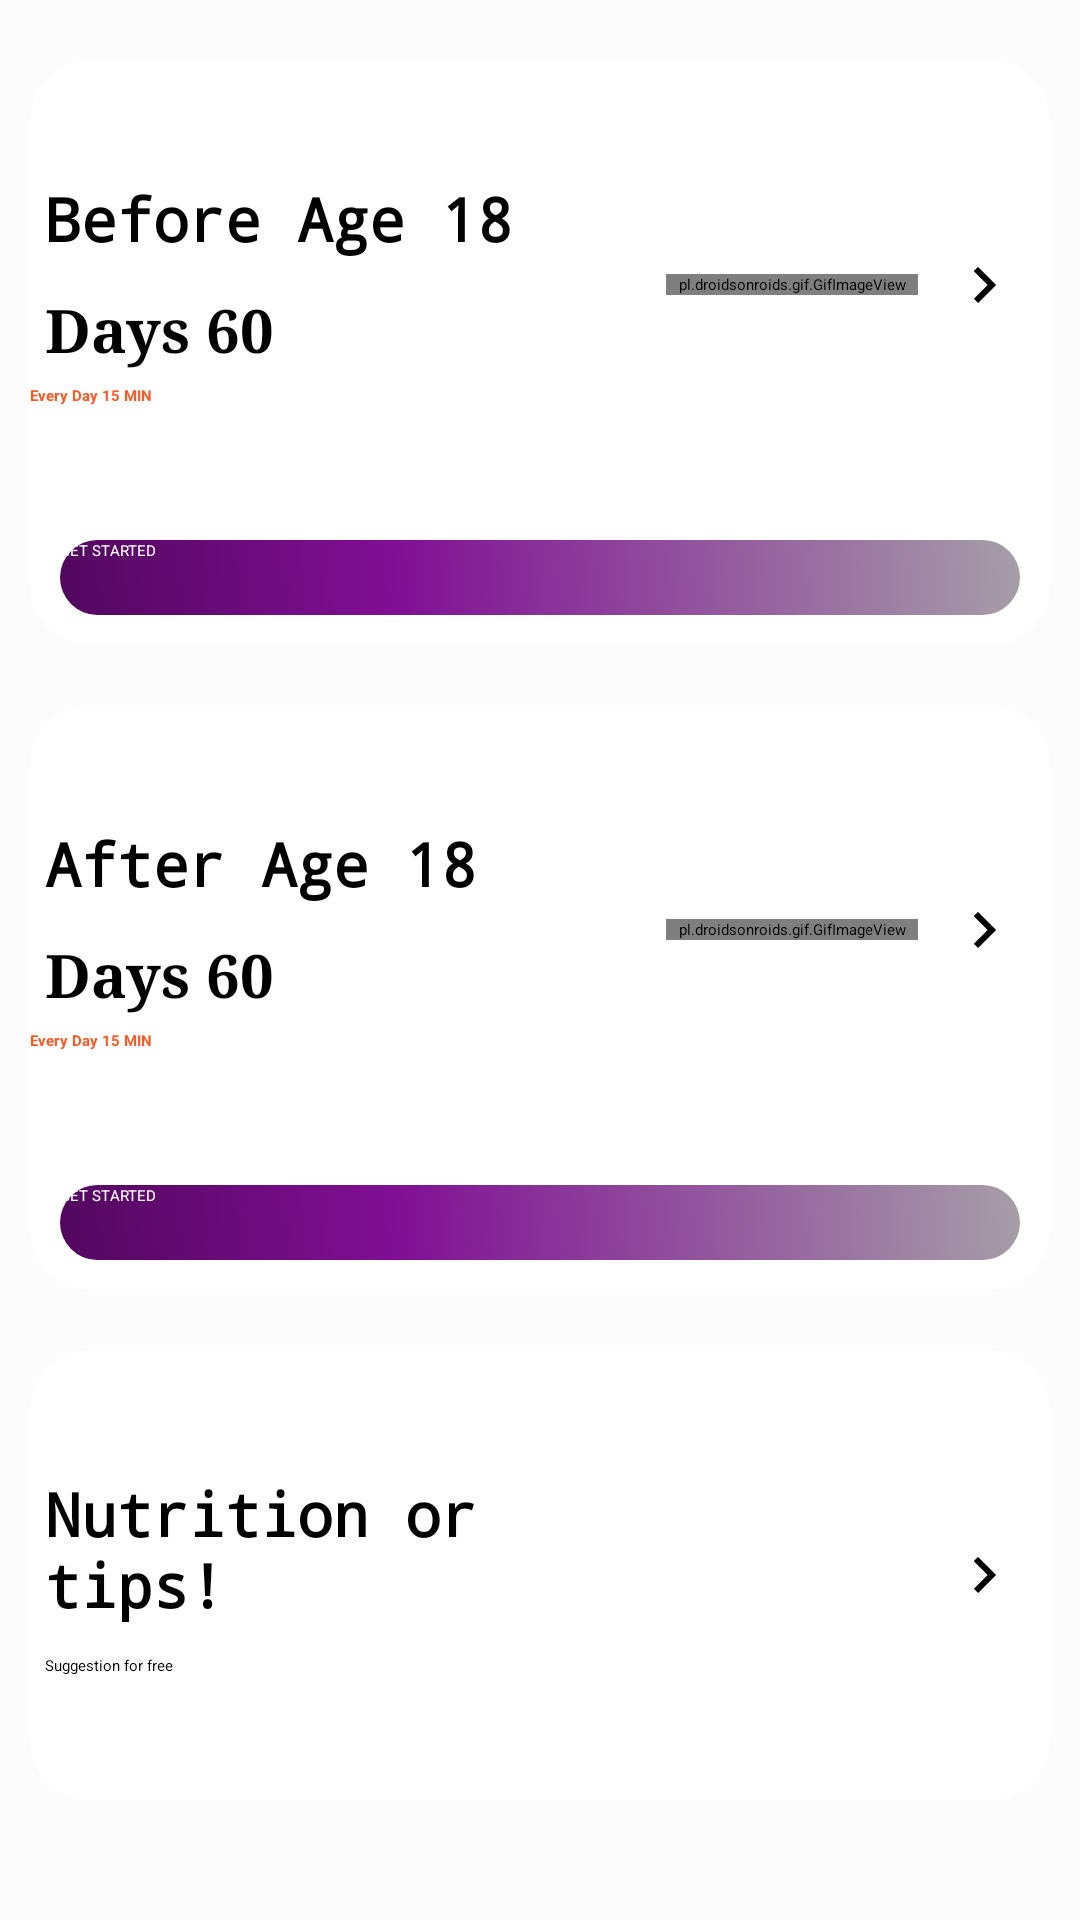

Where icons sit on this 1080px×1920px app screen, as (x1,y1,x2,y2):
arrowright: (974,267,996,303), (974,912,996,948), (974,1557,996,1593)
